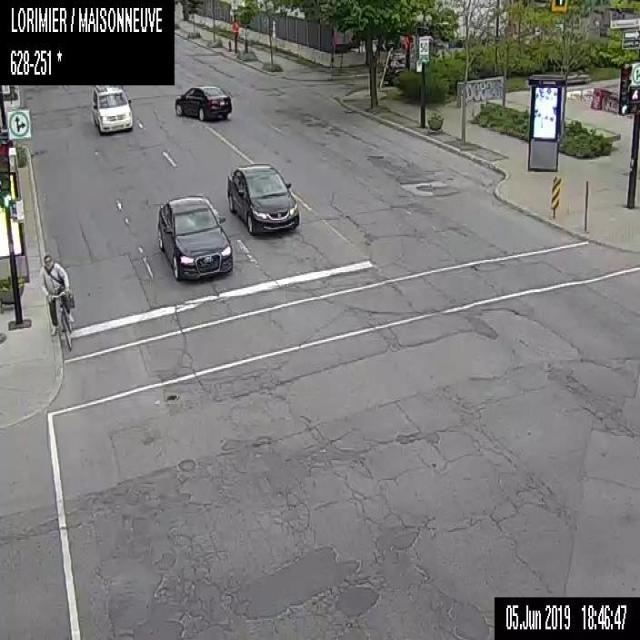cyclist: (37, 250, 74, 346)
vehicle: (157, 193, 234, 279), (226, 162, 299, 235), (89, 83, 134, 132), (174, 84, 232, 121), (383, 54, 405, 84)
